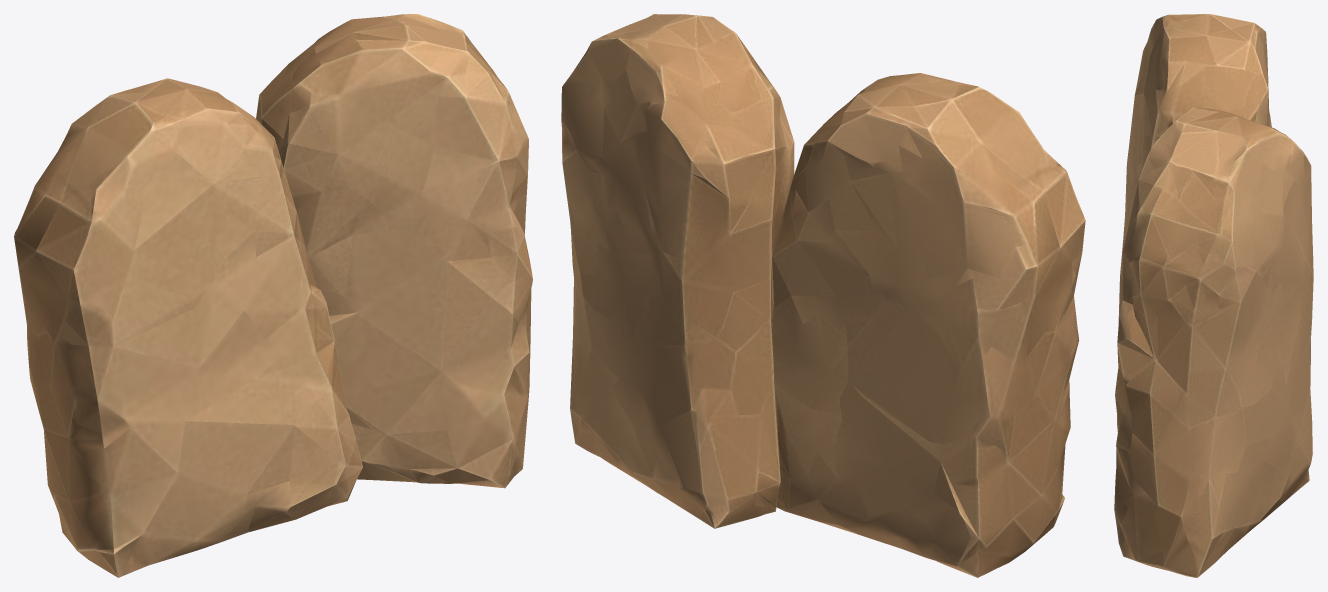
Rendered from stone-tablets.glb.
3 renders of one model, left to right at view 1: azimuth 30°, elevation 25°; view 2: azimuth 150°, elevation 25°; view 3: azimuth 270°, elevation 25°, orthographic. The views are drawn at different scales.
Bounding box in the file's own units: 1.9 × 1.69 × 0.7472.
Materials: 1 (1 with a texture image).
